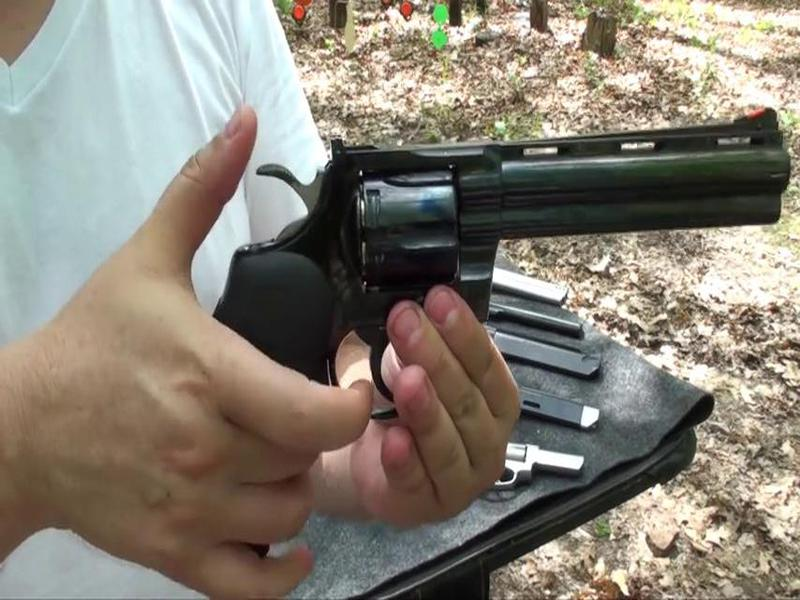Revolver: (210, 110, 793, 414)
